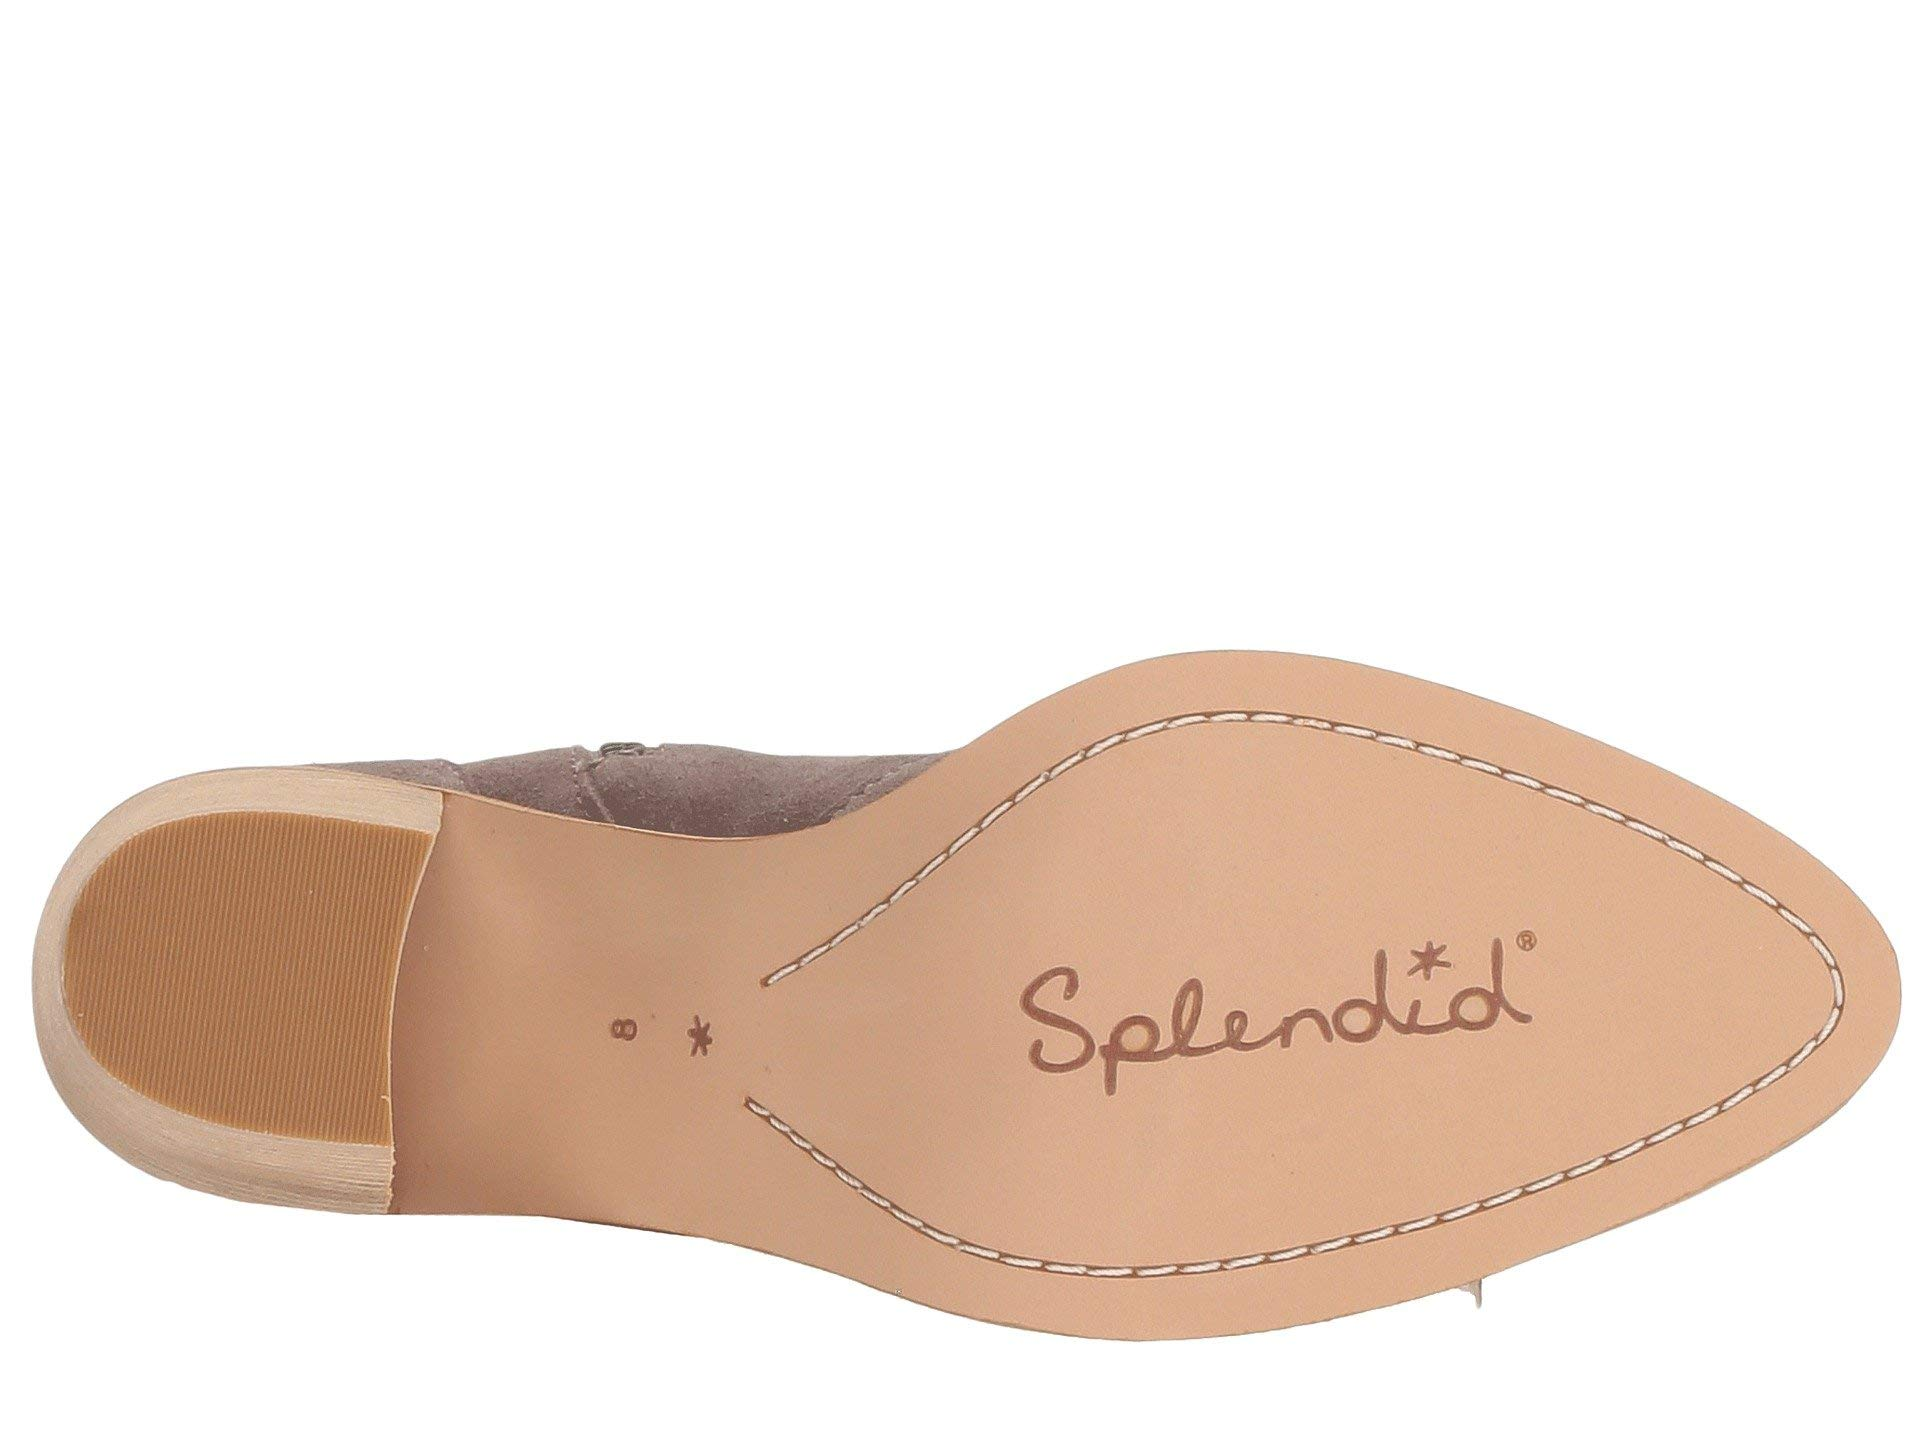circle: (1005, 820, 1586, 1237)
star: (1005, 820, 1586, 1237)
text: (1005, 820, 1586, 1237)
